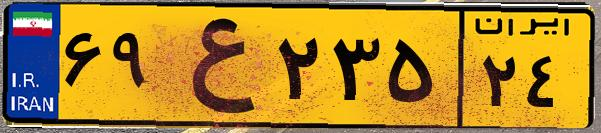2: (270, 28, 330, 110), (475, 38, 525, 113)
3: (330, 28, 385, 110)
4: (525, 38, 570, 115)
5: (385, 28, 445, 110)
6: (57, 26, 110, 100)
9: (110, 28, 158, 98)
ع: (158, 12, 270, 120)
